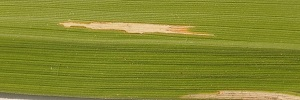RiceBacterialBlight: (52, 15, 219, 43), (172, 85, 300, 100)
